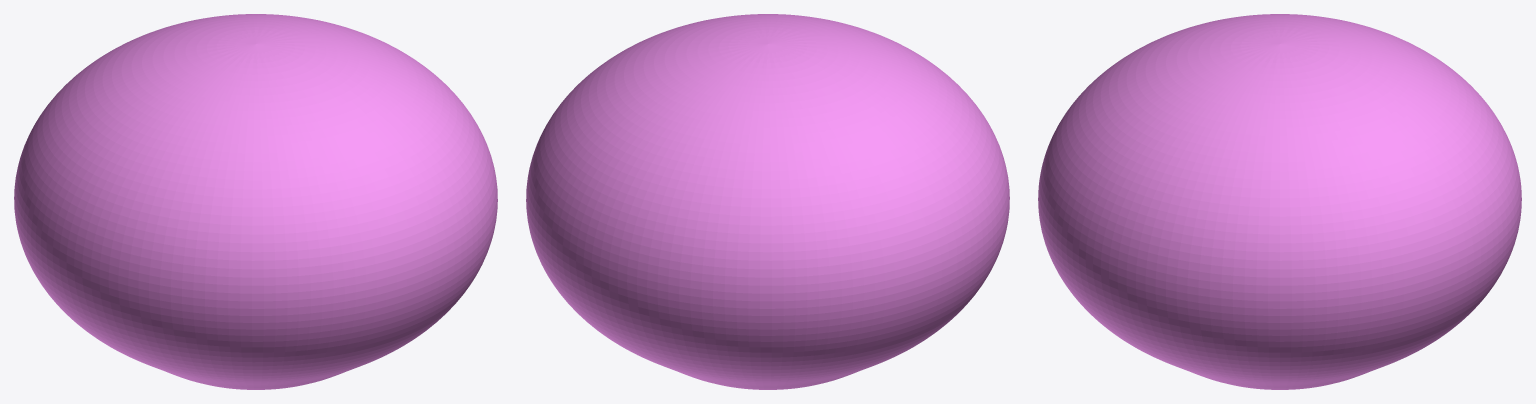
File: Slime_Purple.fbx
3 renders of one model, left to right at view 1: azimuth 30°, elevation 25°; view 2: azimuth 150°, elevation 25°; view 3: azimuth 270°, elevation 25°, orthographic.
Visible parts, largest first — view 1: Slime_Purple; view 2: Slime_Purple; view 3: Slime_Purple.
Boxes of the visible parts, left/top/right/bottom form: Slime_Purple: left=14, top=14, right=497, bottom=389; Slime_Purple: left=526, top=14, right=1009, bottom=389; Slime_Purple: left=1038, top=14, right=1521, bottom=389.
Bounding box in the file's own units: 0.9872 × 0.6992 × 0.9872.
